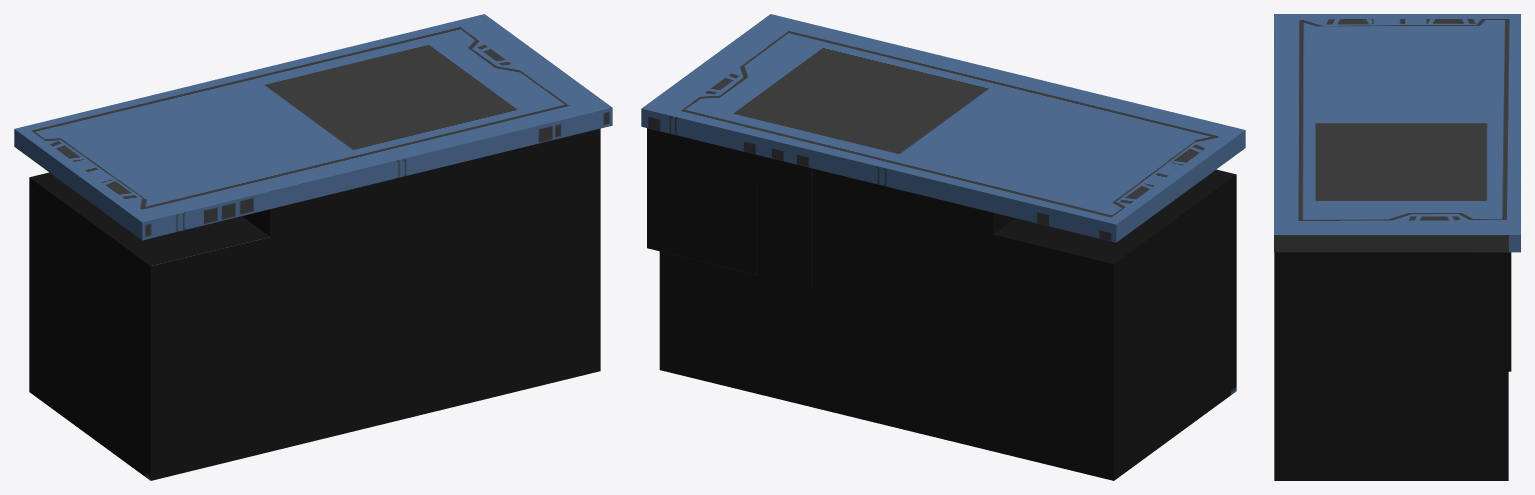
The model's file is platformLAB11.fbx.
The picture shows the model from 3 angles, left to right: view 1: azimuth 30°, elevation 25°; view 2: azimuth 150°, elevation 25°; view 3: azimuth 270°, elevation 25°; orthographic projection. The views are drawn at different scales.
Parts seen in each view (by area): view 1: platformLAB11; view 2: platformLAB11; view 3: platformLAB11.
Part boxes in pixels (x1=…): platformLAB11: x1=14, y1=14, x2=612, y2=480; platformLAB11: x1=641, y1=14, x2=1245, y2=480; platformLAB11: x1=1274, y1=14, x2=1520, y2=480.
Size of the model in its own units: 3028 by 1605 by 1428.
